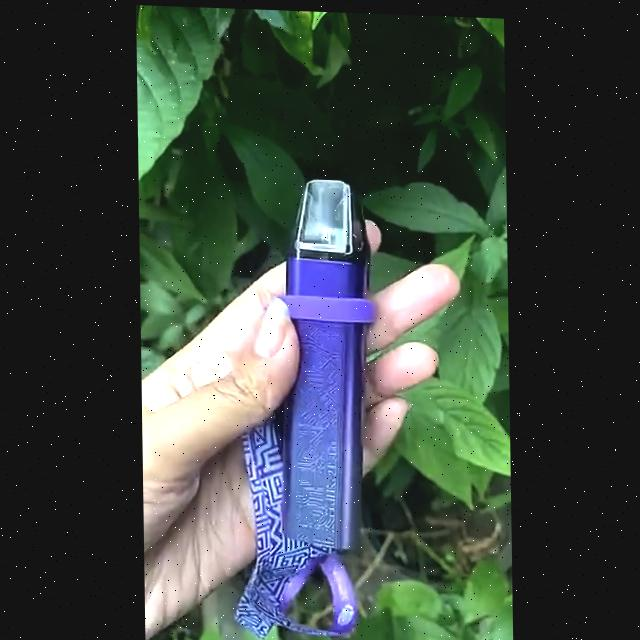vape: (283, 172, 373, 545)
